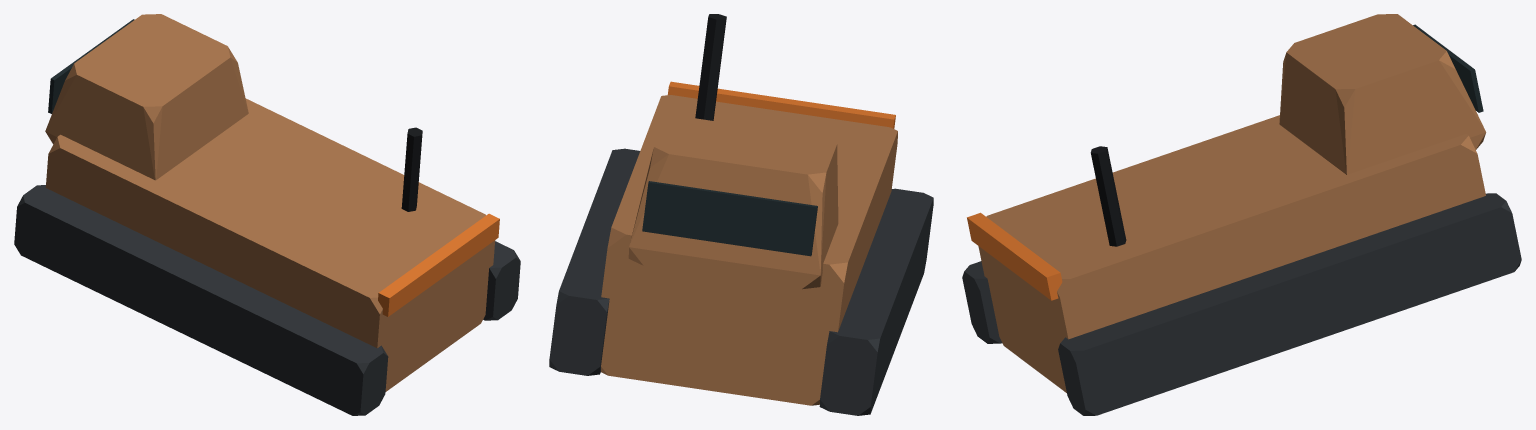
The model's file is env_wreck_a.glb.
3 renders of one model, left to right at view 1: azimuth 30°, elevation 25°; view 2: azimuth 150°, elevation 25°; view 3: azimuth 270°, elevation 25°, orthographic. The views are drawn at different scales.
Visible parts, largest first — view 1: wreck-col; view 2: wreck-col; view 3: wreck-col.
Part boxes in pixels (bbox=[...]): wreck-col: bbox=[14, 14, 520, 415]; wreck-col: bbox=[549, 14, 933, 415]; wreck-col: bbox=[962, 14, 1521, 415].
Size of the model in its own units: 9.02 by 5.98 by 10.89.
Materials: 1 (1 with a texture image).
